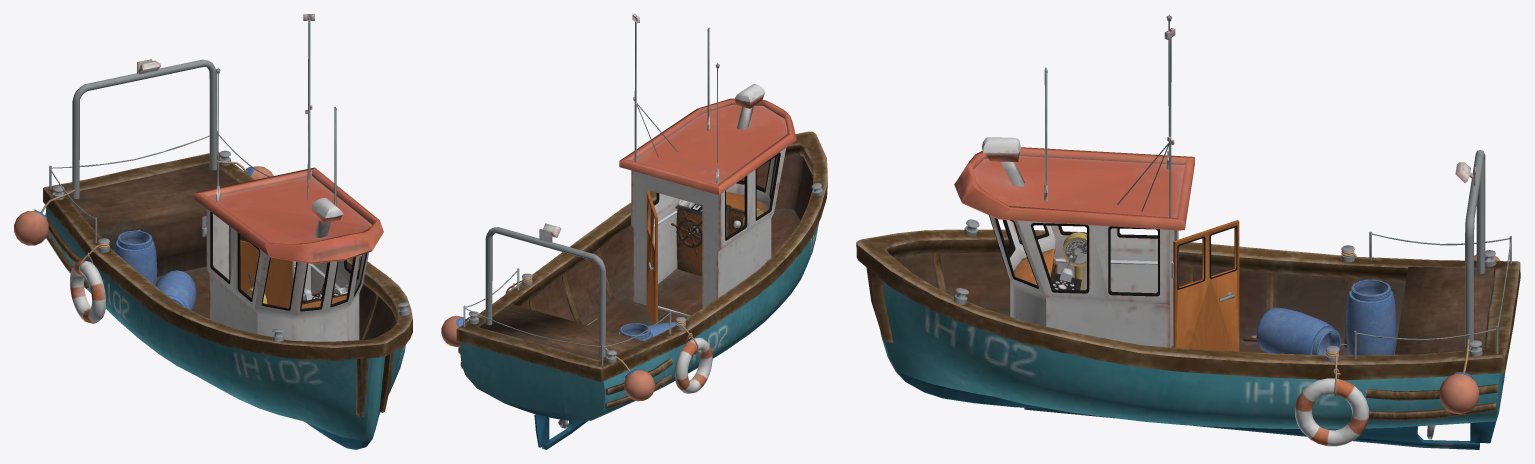
File: boat_trawler.glb
3 views of the same model, side by side, from view 1: azimuth 30°, elevation 25°; view 2: azimuth 150°, elevation 25°; view 3: azimuth 270°, elevation 25° (orthographic). The views are drawn at different scales.
Parts seen in each view (by area): view 1: Sketchfab_Fishing_Ship_0, Sketchfab_Boat_Interior_0; view 2: Sketchfab_Fishing_Ship_0, Sketchfab_Boat_Interior_0; view 3: Sketchfab_Fishing_Ship_0, Sketchfab_Boat_Interior_0.
Part boxes in pixels (bbox=[...]): Sketchfab_Fishing_Ship_0: bbox=[43, 14, 412, 449]; Sketchfab_Boat_Interior_0: bbox=[14, 160, 348, 323]; Sketchfab_Fishing_Ship_0: bbox=[456, 14, 827, 449]; Sketchfab_Boat_Interior_0: bbox=[441, 192, 767, 401]; Sketchfab_Fishing_Ship_0: bbox=[856, 14, 1520, 449]; Sketchfab_Boat_Interior_0: bbox=[1013, 232, 1500, 446].
Bounding box in the file's own units: 8.86 × 13.03 × 18.
3 materials, 2 textured.
